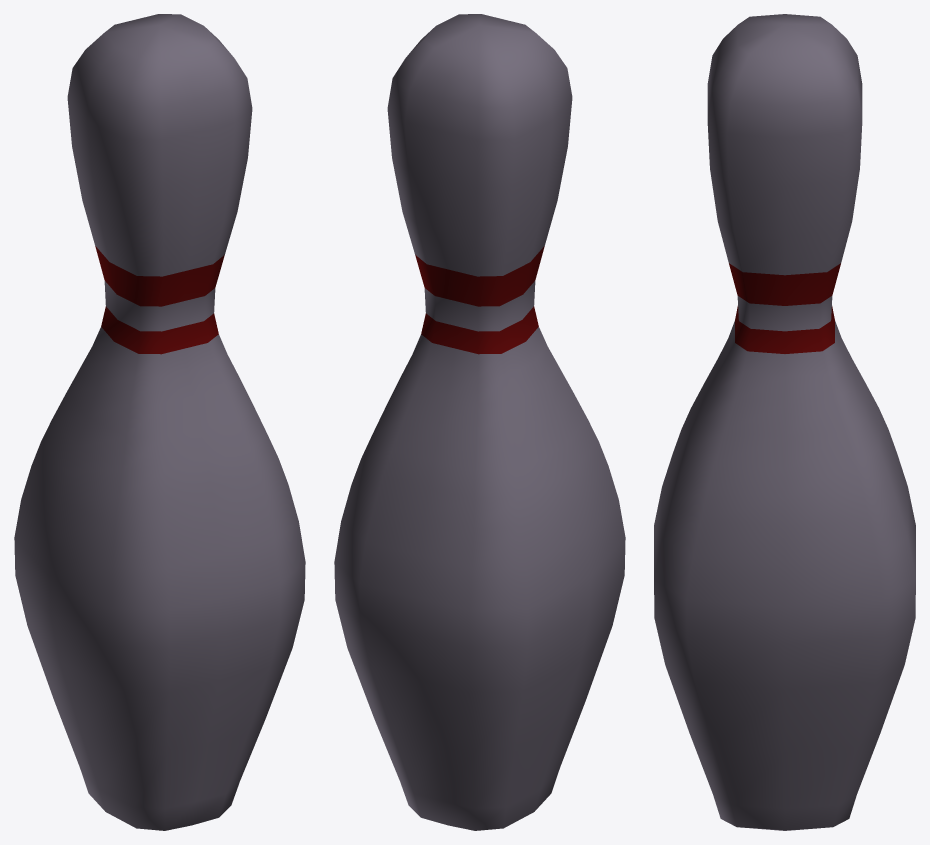
The model's file is DM_Pine.fbx.
3 views of the same model, side by side, from view 1: azimuth 30°, elevation 25°; view 2: azimuth 150°, elevation 25°; view 3: azimuth 270°, elevation 25° (orthographic).
Parts seen in each view (by area): view 1: DM_Pine; view 2: DM_Pine; view 3: DM_Pine.
Boxes of the visible parts, x1,y1,x2,y2 form: DM_Pine: (14,14,305,830); DM_Pine: (334,14,625,830); DM_Pine: (654,14,915,830).
Size of the model in its own units: 11.1 by 37.58 by 11.29.
